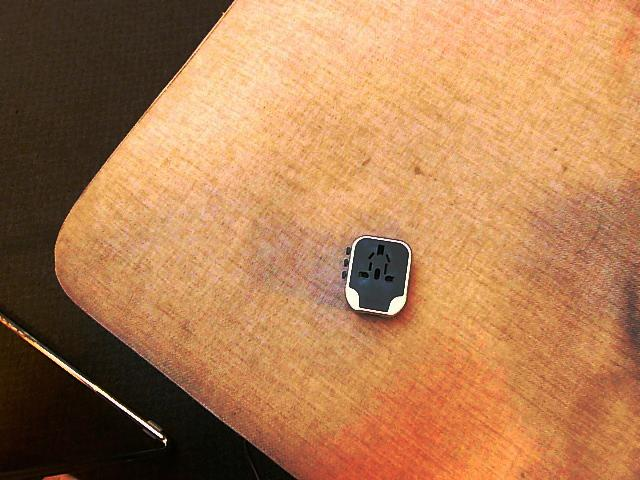adapter: (341, 234, 411, 317)
